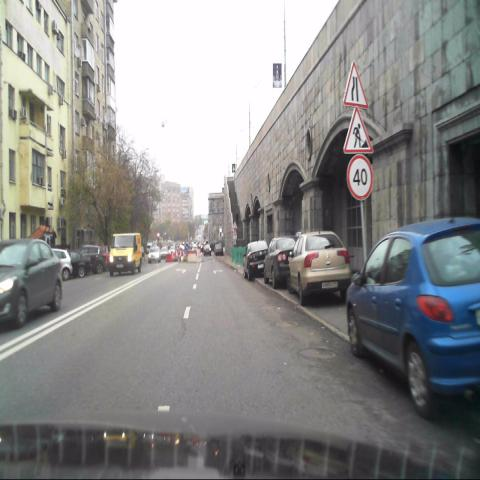1_20_3: (341, 62, 370, 108)
